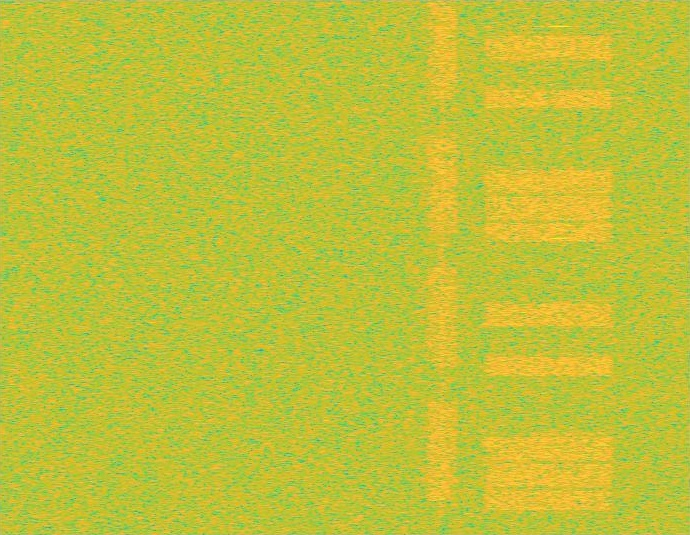5G: (425, 0, 460, 534)
DSSS: (440, 0, 445, 534)
LTE: (480, 0, 618, 534)
Radar: (554, 0, 567, 534)
